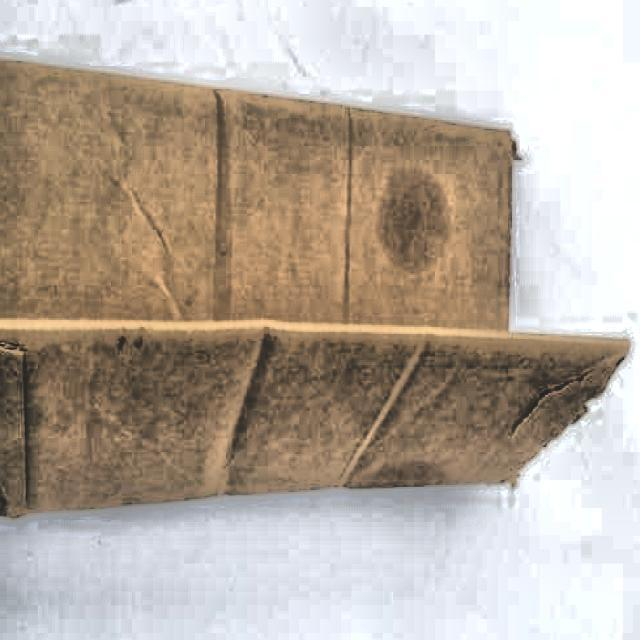cardboard: (0, 45, 631, 518)
